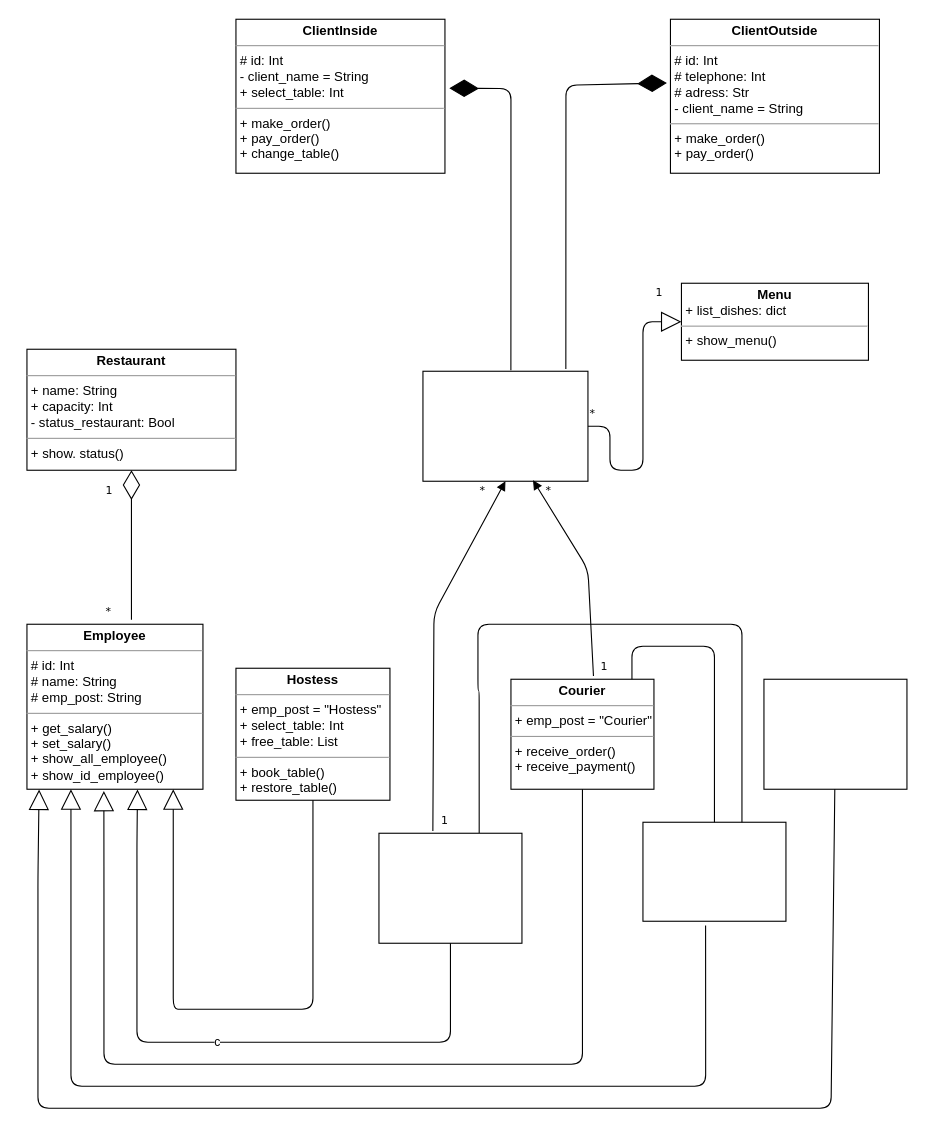
Image size: 926x1147. Some labels were removed from this diagram. The centre of each missing label's shape, as x and y in pixels:
Administrator + emp_post = "Admin" - open_rest() - close_rest(): [835,733]
Chief + emp_post = "Chief" + cook_order(): [714,871]
Order # id: Int + status_order = bool + total_price(): [505,425]
Waiter + emp_post = "Waiter" + receive_order() + receive_payment(): [450,887]
